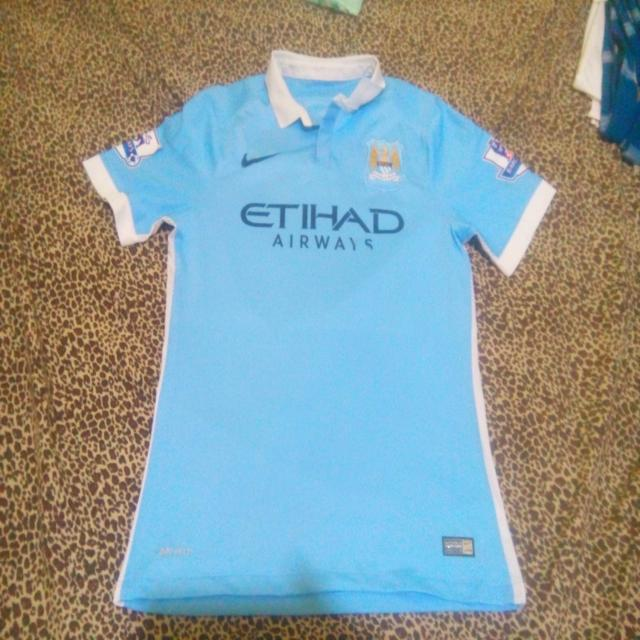Etihad Airways: (241, 199, 406, 255)
Nike: (240, 149, 285, 170)
